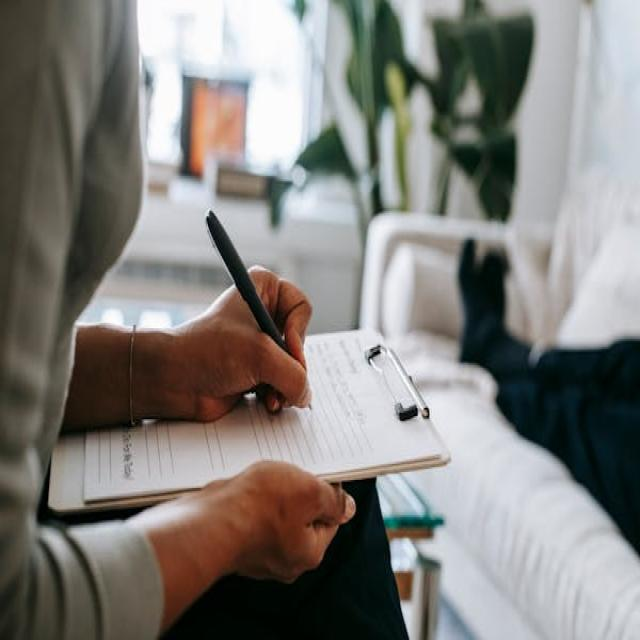pen: (190, 175, 329, 432)
